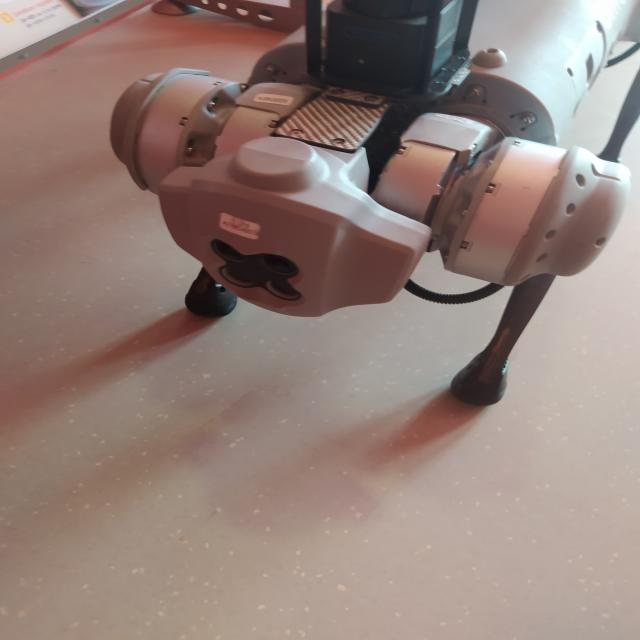unitree-go1-robot: (110, 0, 640, 402)
